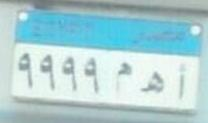9: (59, 53, 80, 96), (81, 55, 101, 97), (38, 49, 57, 92), (17, 52, 36, 94)
alif: (173, 61, 189, 104)
haa: (139, 66, 166, 98)
meem: (112, 59, 134, 96)
